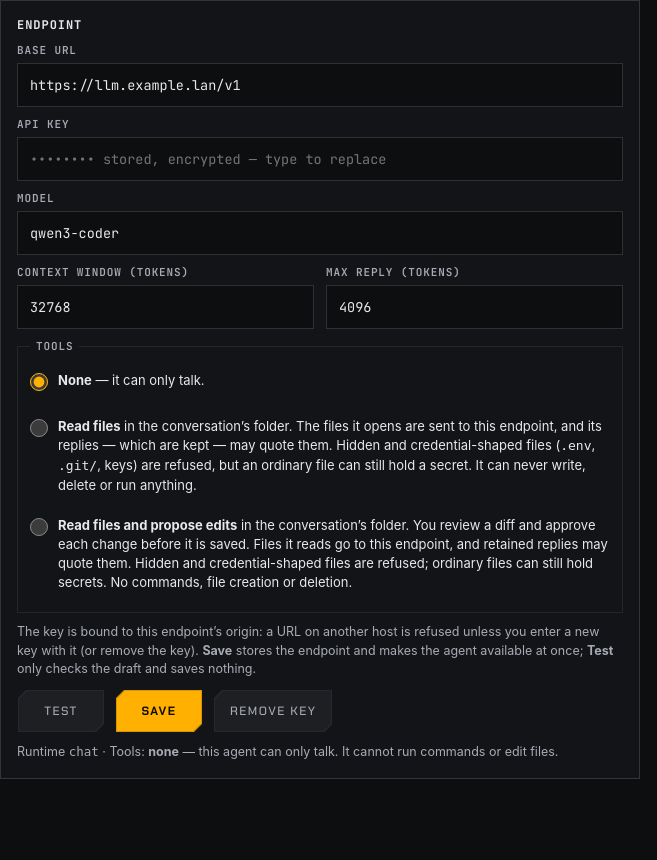
Test: a refusal from the origin policy is shown as it was given
Type "https://other.example/v1" into the field labelled "Base URL" at (320, 85), box [17,63,623,107]
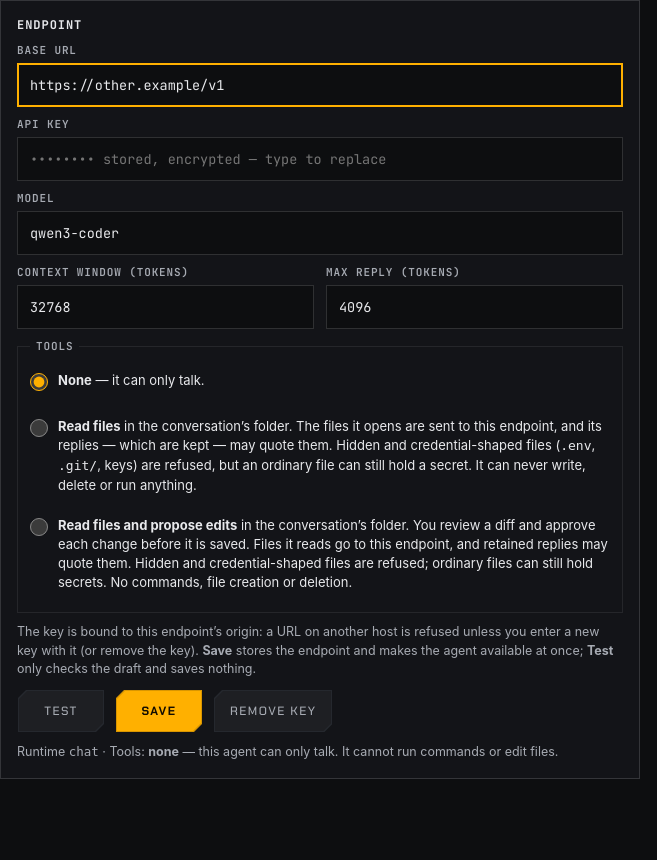
Click the button "Save" at (159, 711), box [115,689,203,733]
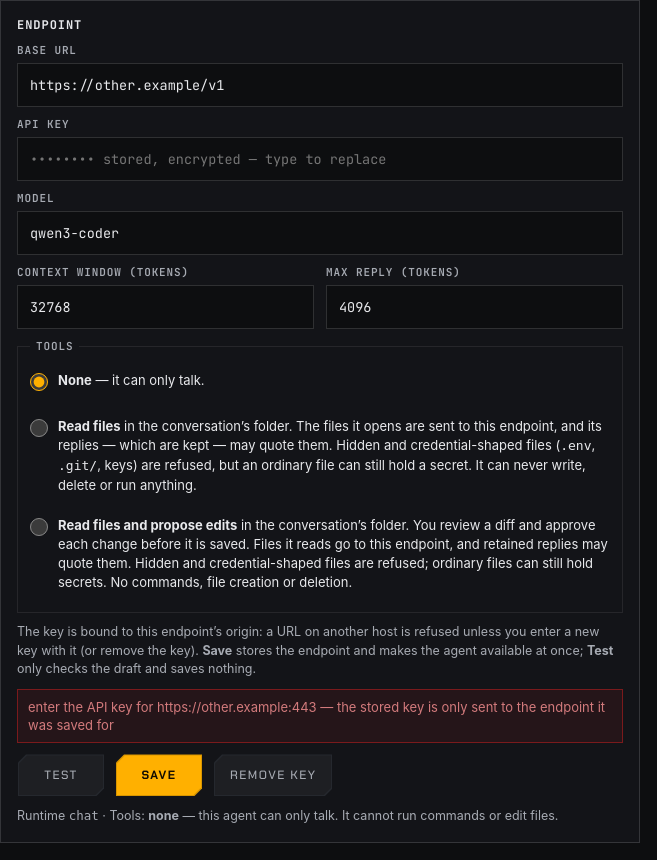
Expected: the message shows "only sent to the endpoint it was saved for", [28,699,605,733]
